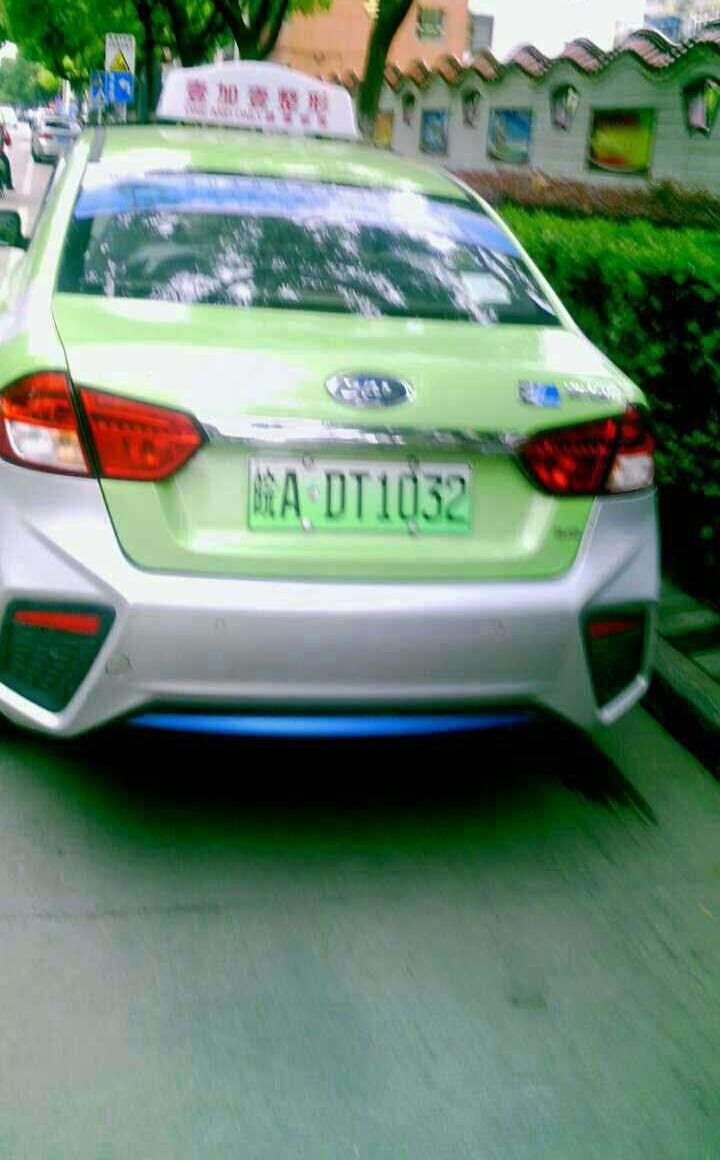car_id: (244, 456, 469, 537)
